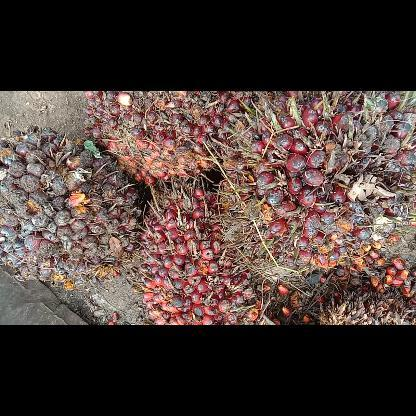Kurang masak: (0, 123, 151, 290)
TBS masak: (211, 91, 415, 282), (129, 174, 275, 324), (80, 90, 262, 188)
